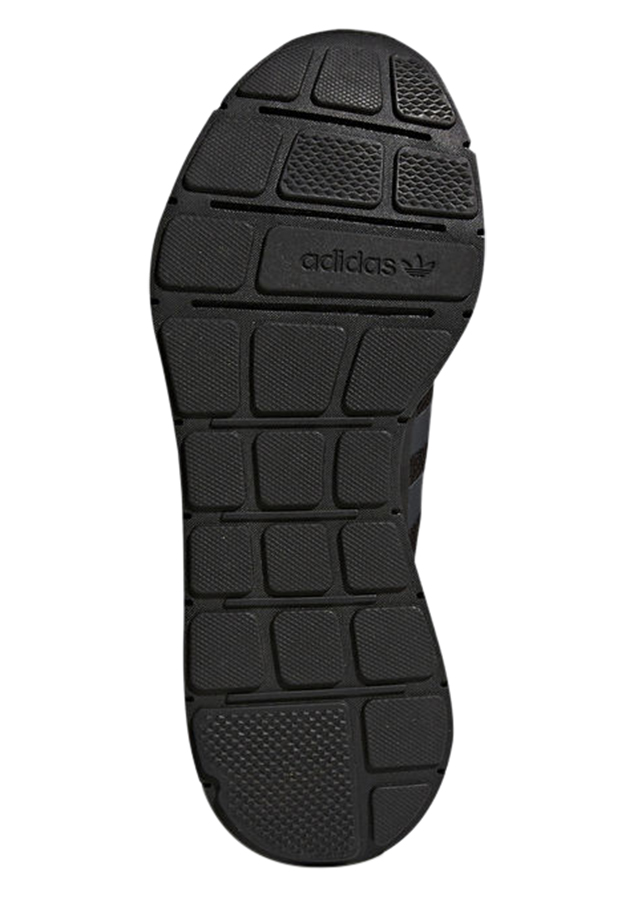Adidas: (293, 237, 442, 285)
